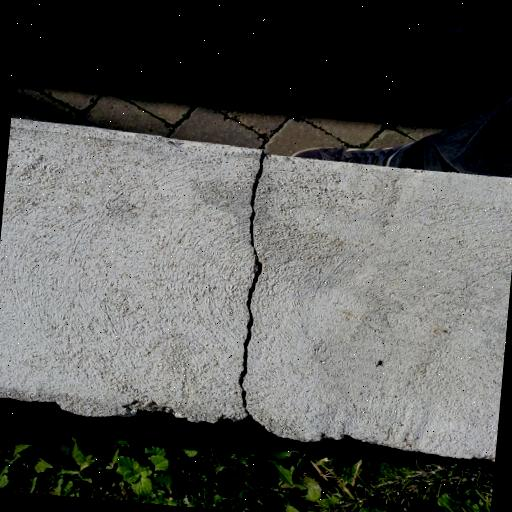spalling: (234, 149, 275, 416)
